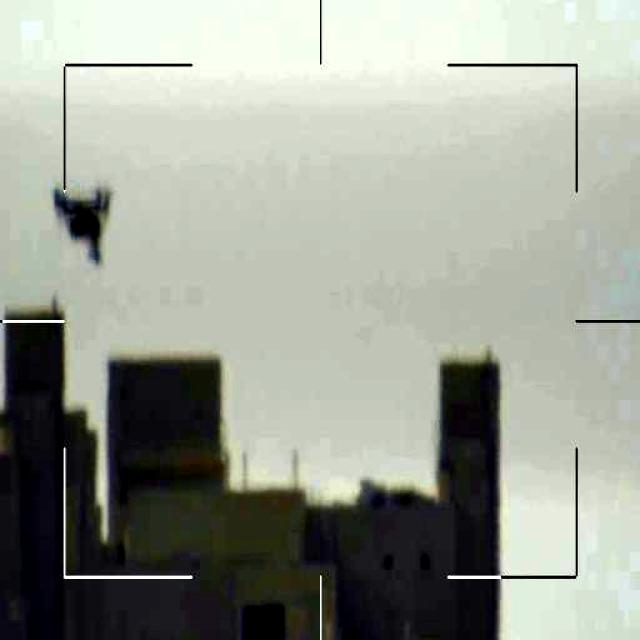bird: (55, 178, 118, 269)
